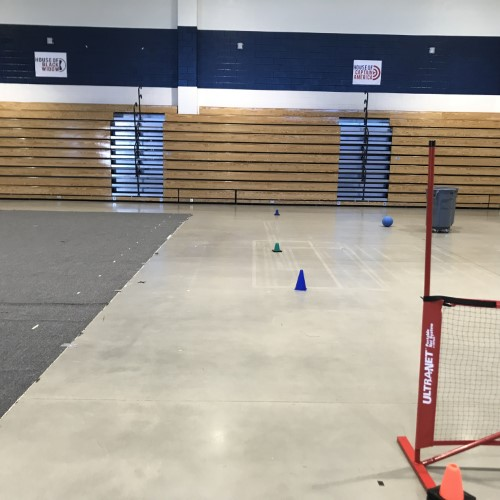blue: (380, 214, 394, 227)
